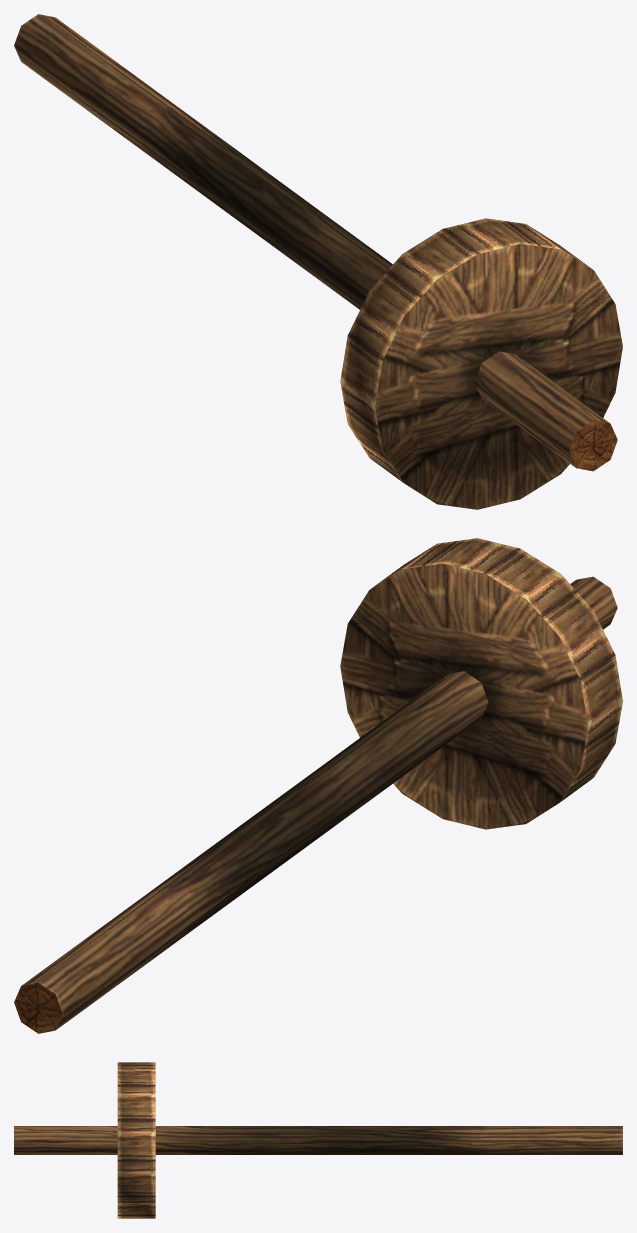
File: INST_SWORDLIGHT_DRUMD.fbx
3 views of the same model, one above another, from view 1: azimuth 30°, elevation 25°; view 2: azimuth 150°, elevation 25°; view 3: azimuth 270°, elevation 25° (orthographic). The views are drawn at different scales.
Visible parts, largest first — view 1: INST_SWORDLIGHT_DRUMD; view 2: INST_SWORDLIGHT_DRUMD; view 3: INST_SWORDLIGHT_DRUMD.
Part boxes in pixels (box(x1,y1,x2,y2)): INST_SWORDLIGHT_DRUMD: box(14, 14, 622, 509); INST_SWORDLIGHT_DRUMD: box(14, 538, 622, 1033); INST_SWORDLIGHT_DRUMD: box(14, 1062, 622, 1218).
Size of the model in its own units: 25400 by 25014 by 98486.
4 materials, 4 textured.
